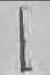M40: (5, 1, 46, 74)
